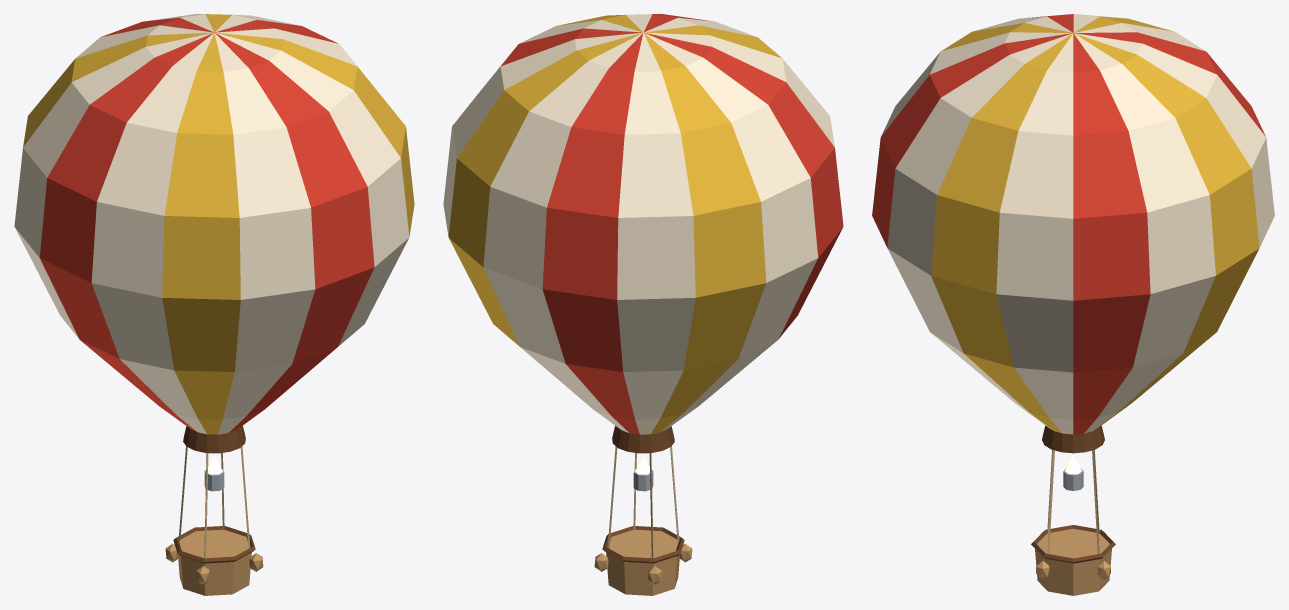
Rendered from balloon.glb.
3 renders of one model, left to right at view 1: azimuth 30°, elevation 25°; view 2: azimuth 150°, elevation 25°; view 3: azimuth 270°, elevation 25°, orthographic.
Parts seen in each view (by area): view 1: Balloon; view 2: Balloon; view 3: Balloon.
Part boxes in pixels (bbox=[...]): Balloon: bbox=[14, 14, 414, 595]; Balloon: bbox=[443, 14, 843, 595]; Balloon: bbox=[872, 14, 1274, 595].
Bounding box in the file's own units: 14 × 21 × 14.
